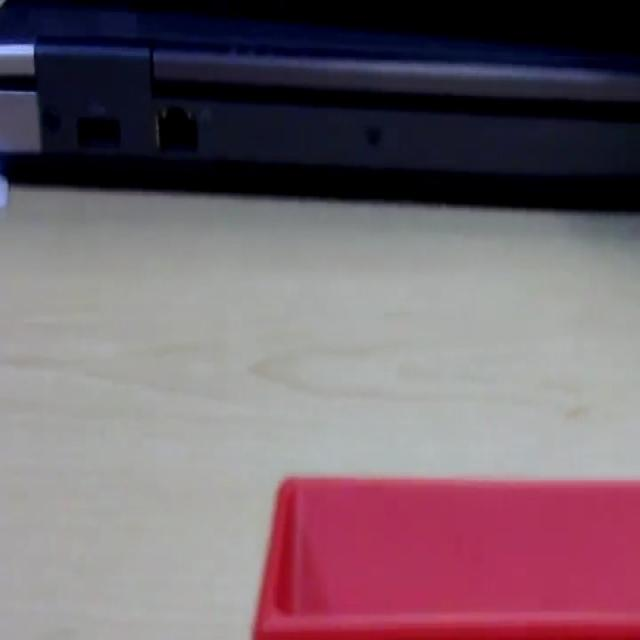red_block: (252, 472, 638, 636)
